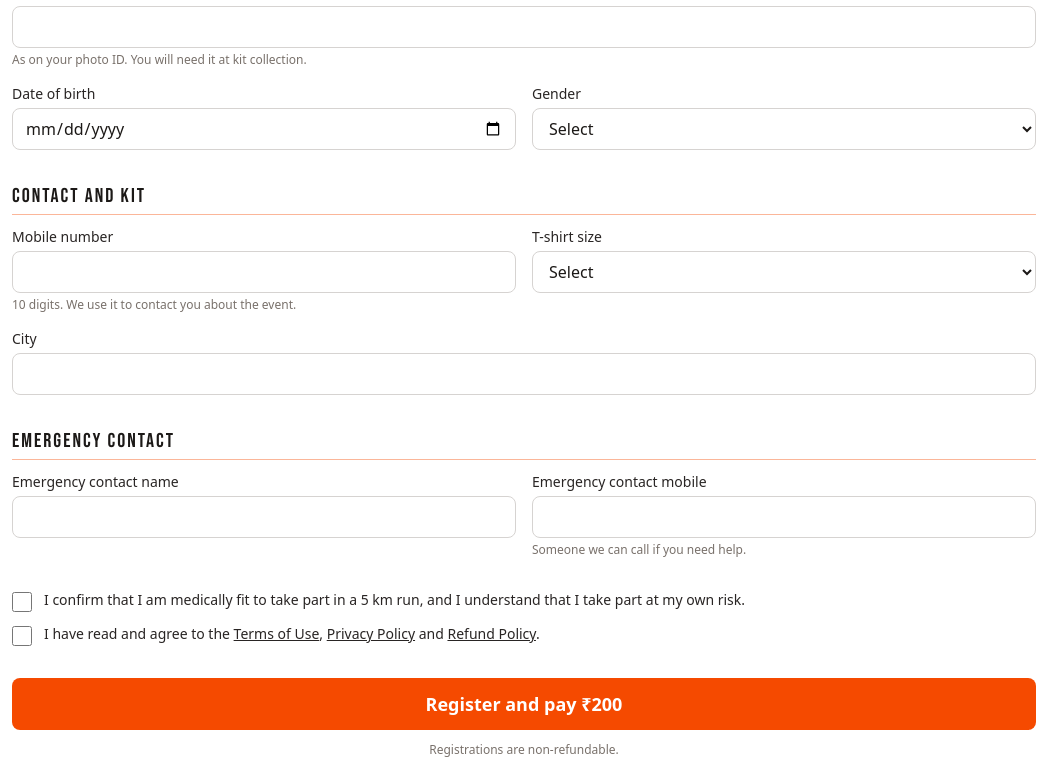
Test: RegistrationForm › does not submit an empty form and marks the fields that need attention
(page scrolled)
Click the button "Register and pay ₹200".
click(524, 704)  # box [12,678,1036,730]
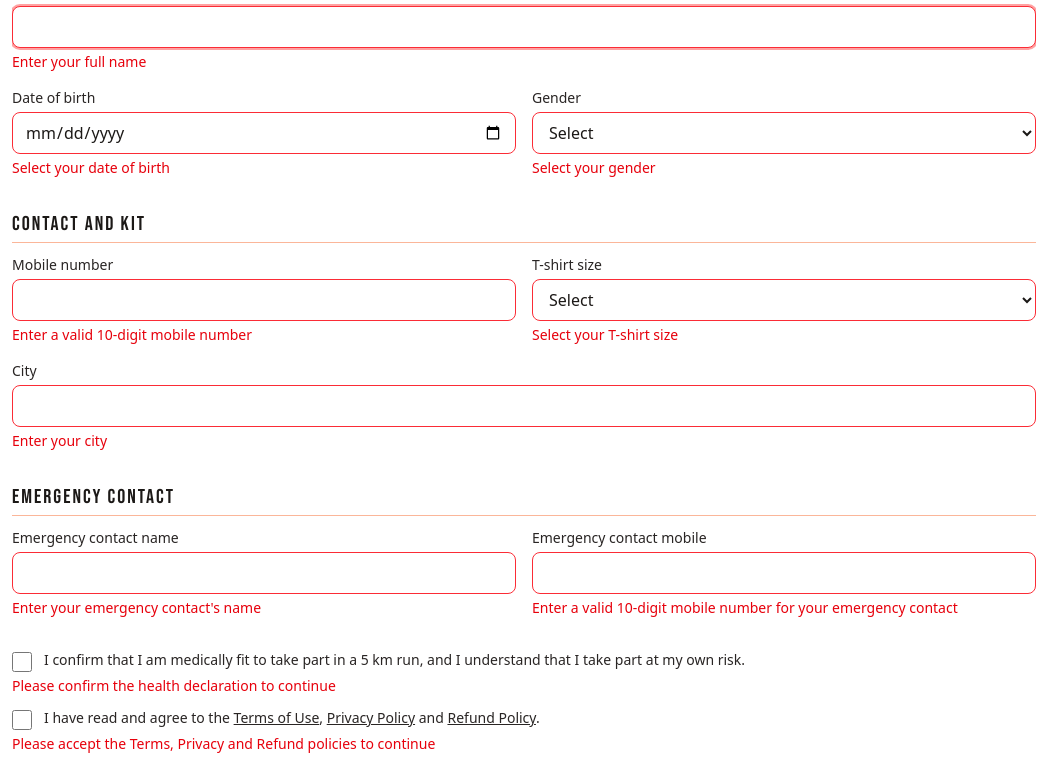
Result: the message "Enter your full name" is shown at [12,52,146,71]
